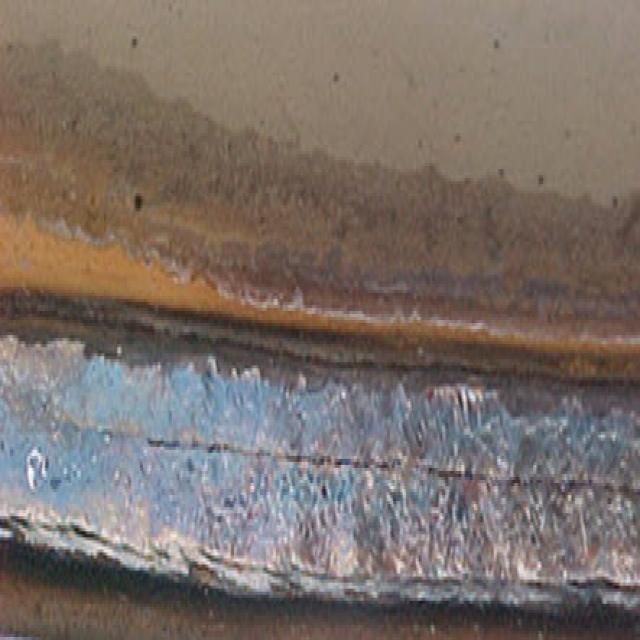Defect: (52, 398, 633, 502)
